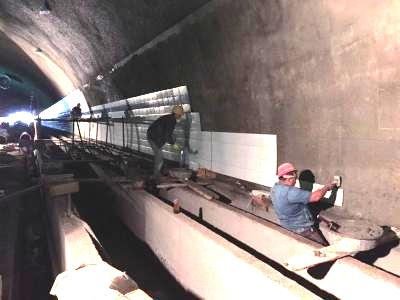helmet: (277, 162, 298, 186), (172, 105, 184, 121)
